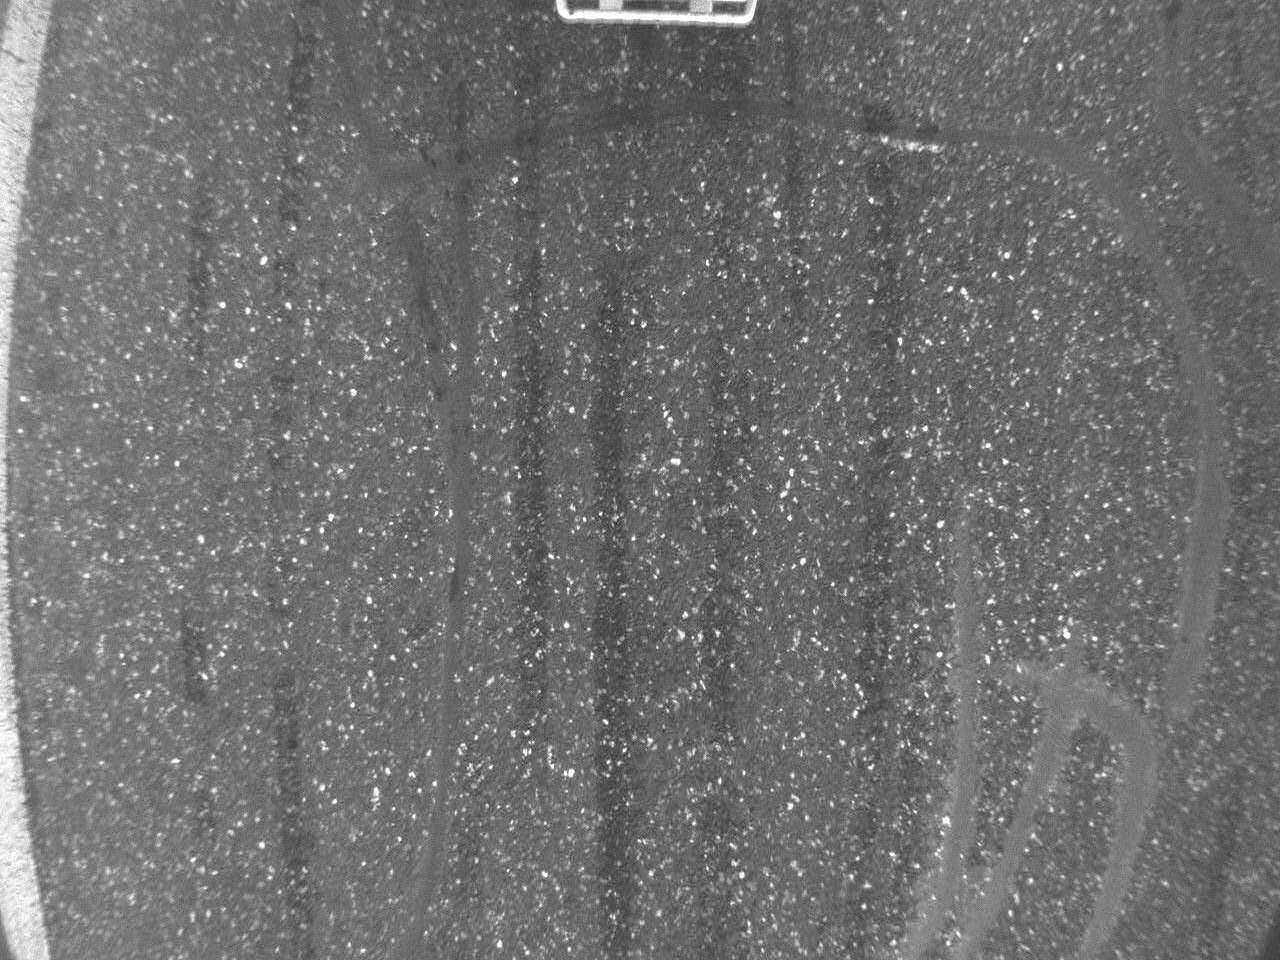sealed: (917, 661, 1161, 960)
